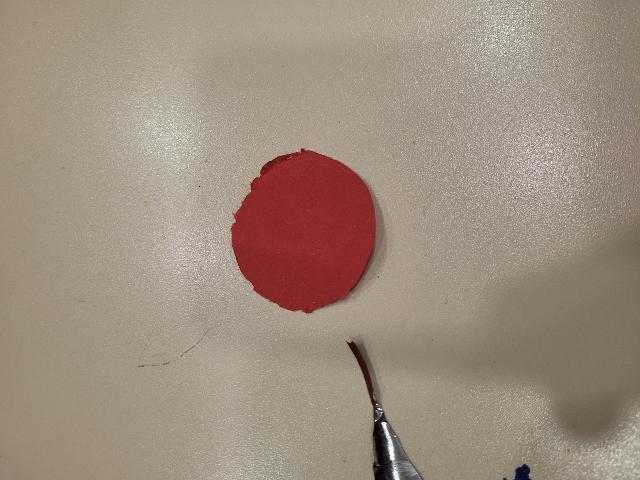Kagit: (233, 150, 380, 312)
